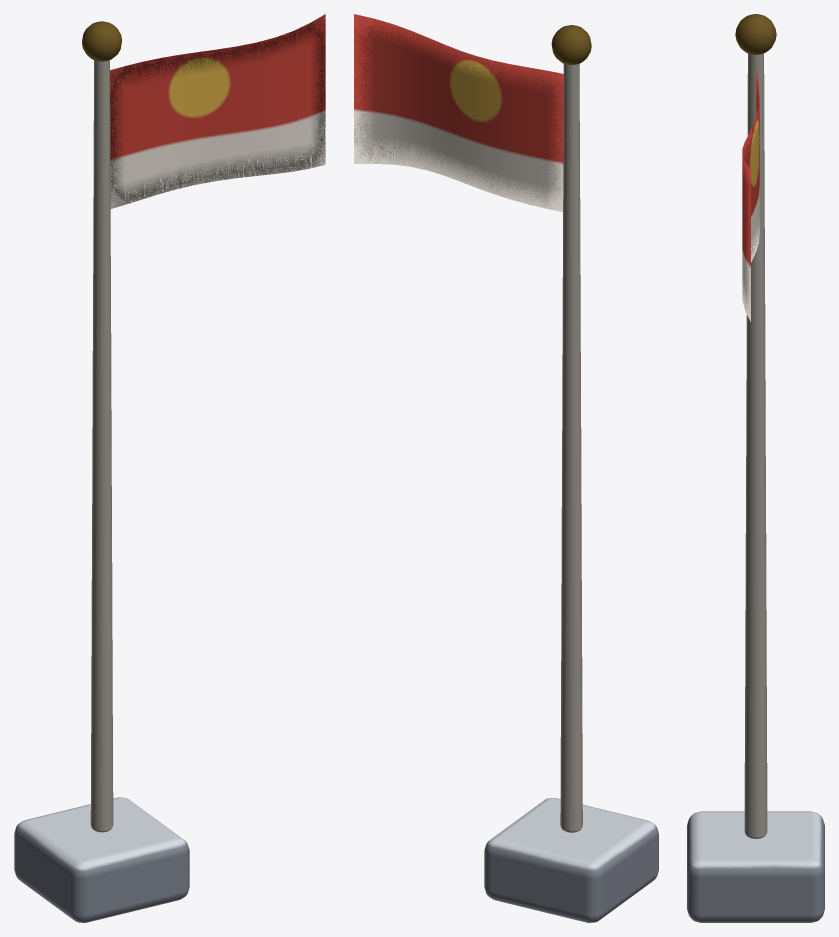
The model's file is flag_pole.glb.
3 views of the same model, side by side, from view 1: azimuth 30°, elevation 25°; view 2: azimuth 150°, elevation 25°; view 3: azimuth 270°, elevation 25° (orthographic). The views are drawn at different scales.
Parts seen in each view (by area): view 1: ball; view 2: ball; view 3: ball.
Boxes of the visible parts, box(x1,y1,x2,y2) form: ball: box(14, 14, 325, 922); ball: box(354, 14, 658, 922); ball: box(687, 14, 824, 922).
Bounding box in the file's own units: 1.43 × 4.24 × 0.6.
1 material, 1 textured.
